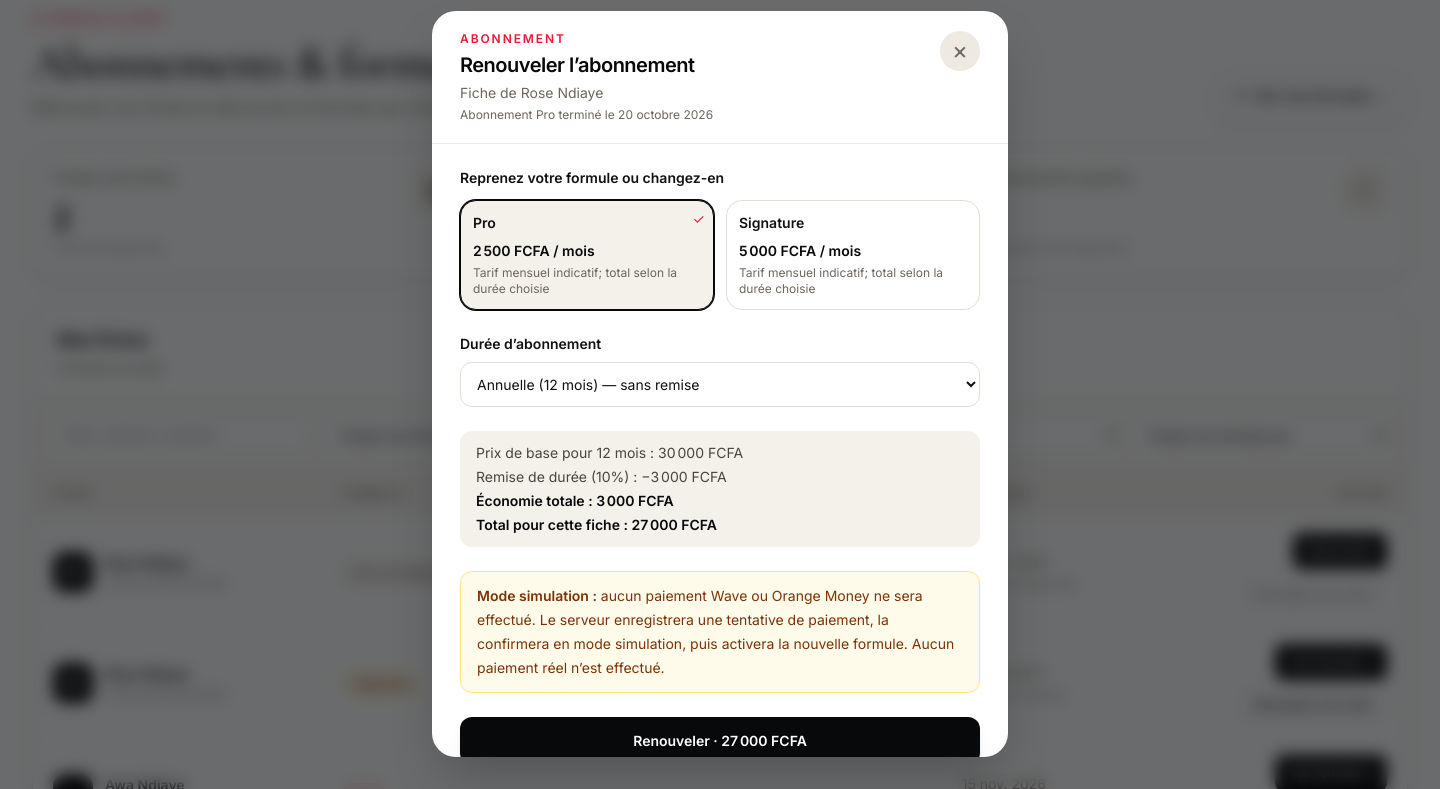
Scenario: SubscriptionPage : lien de renouvellement › fermer la fenêtre retire ?renew de l'adresse (pas de réouverture au rechargement)
This screenshot has width=1440, height=789.
Click the button "×": (960, 51) [940,31,980,71]
(page scrolled)
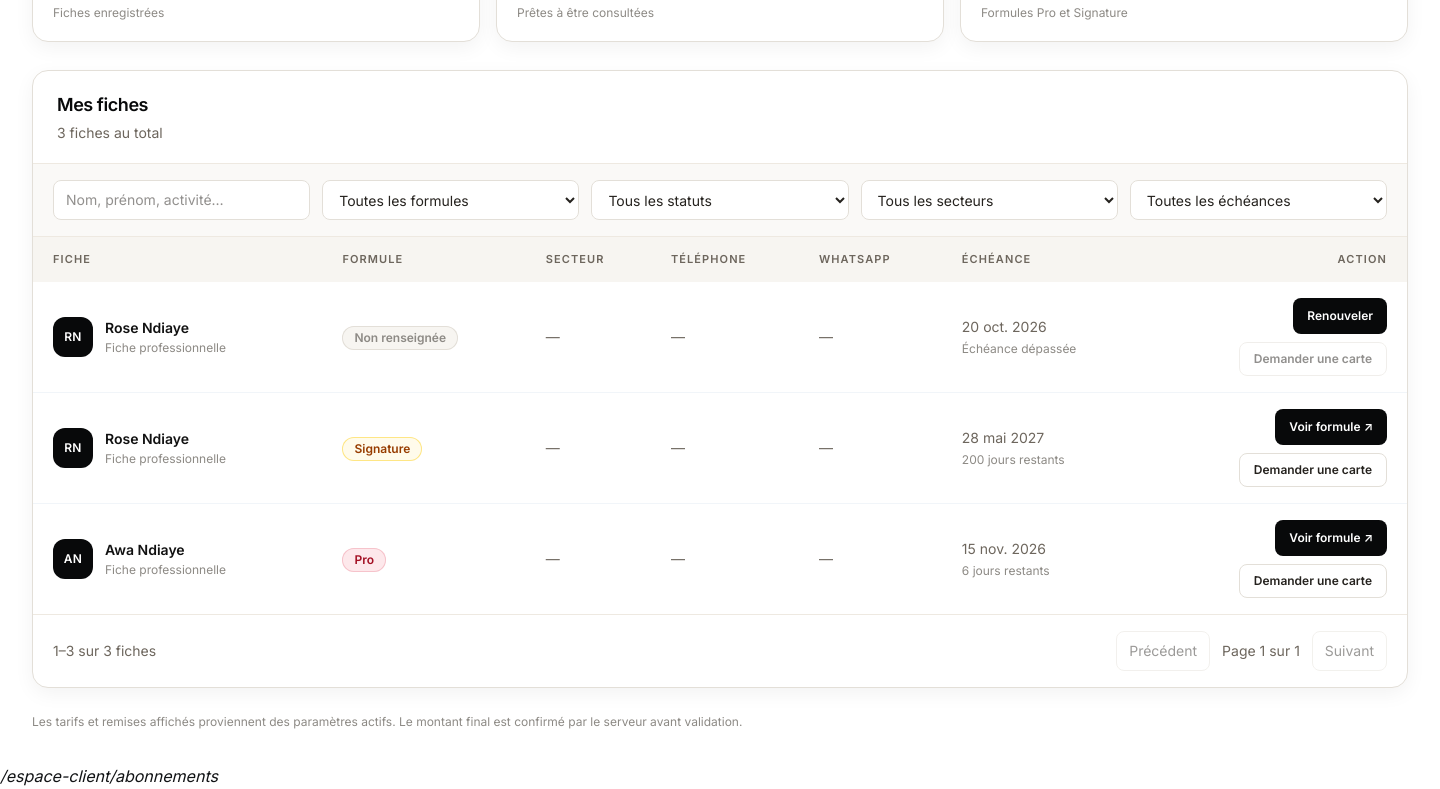
Expected: the text with id "where" reads "/espace-client/abonnements", [0,766,218,786]
Expected: the text "Renouveler l’abonnement" is gone
